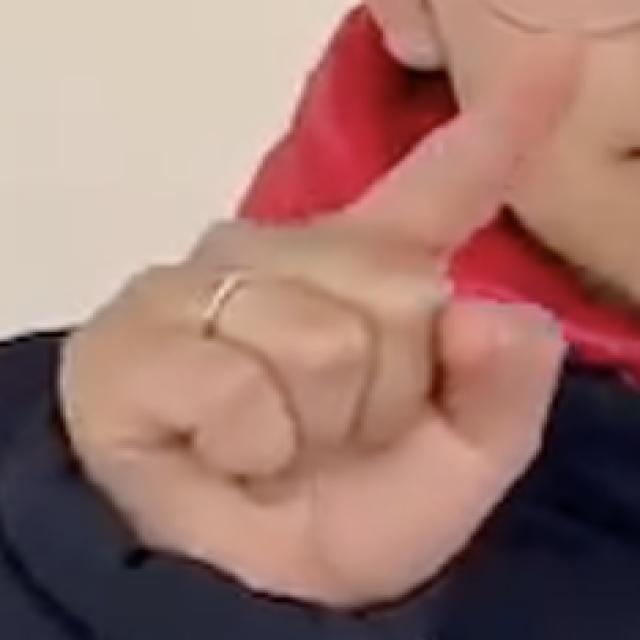Z: (54, 18, 603, 597)
